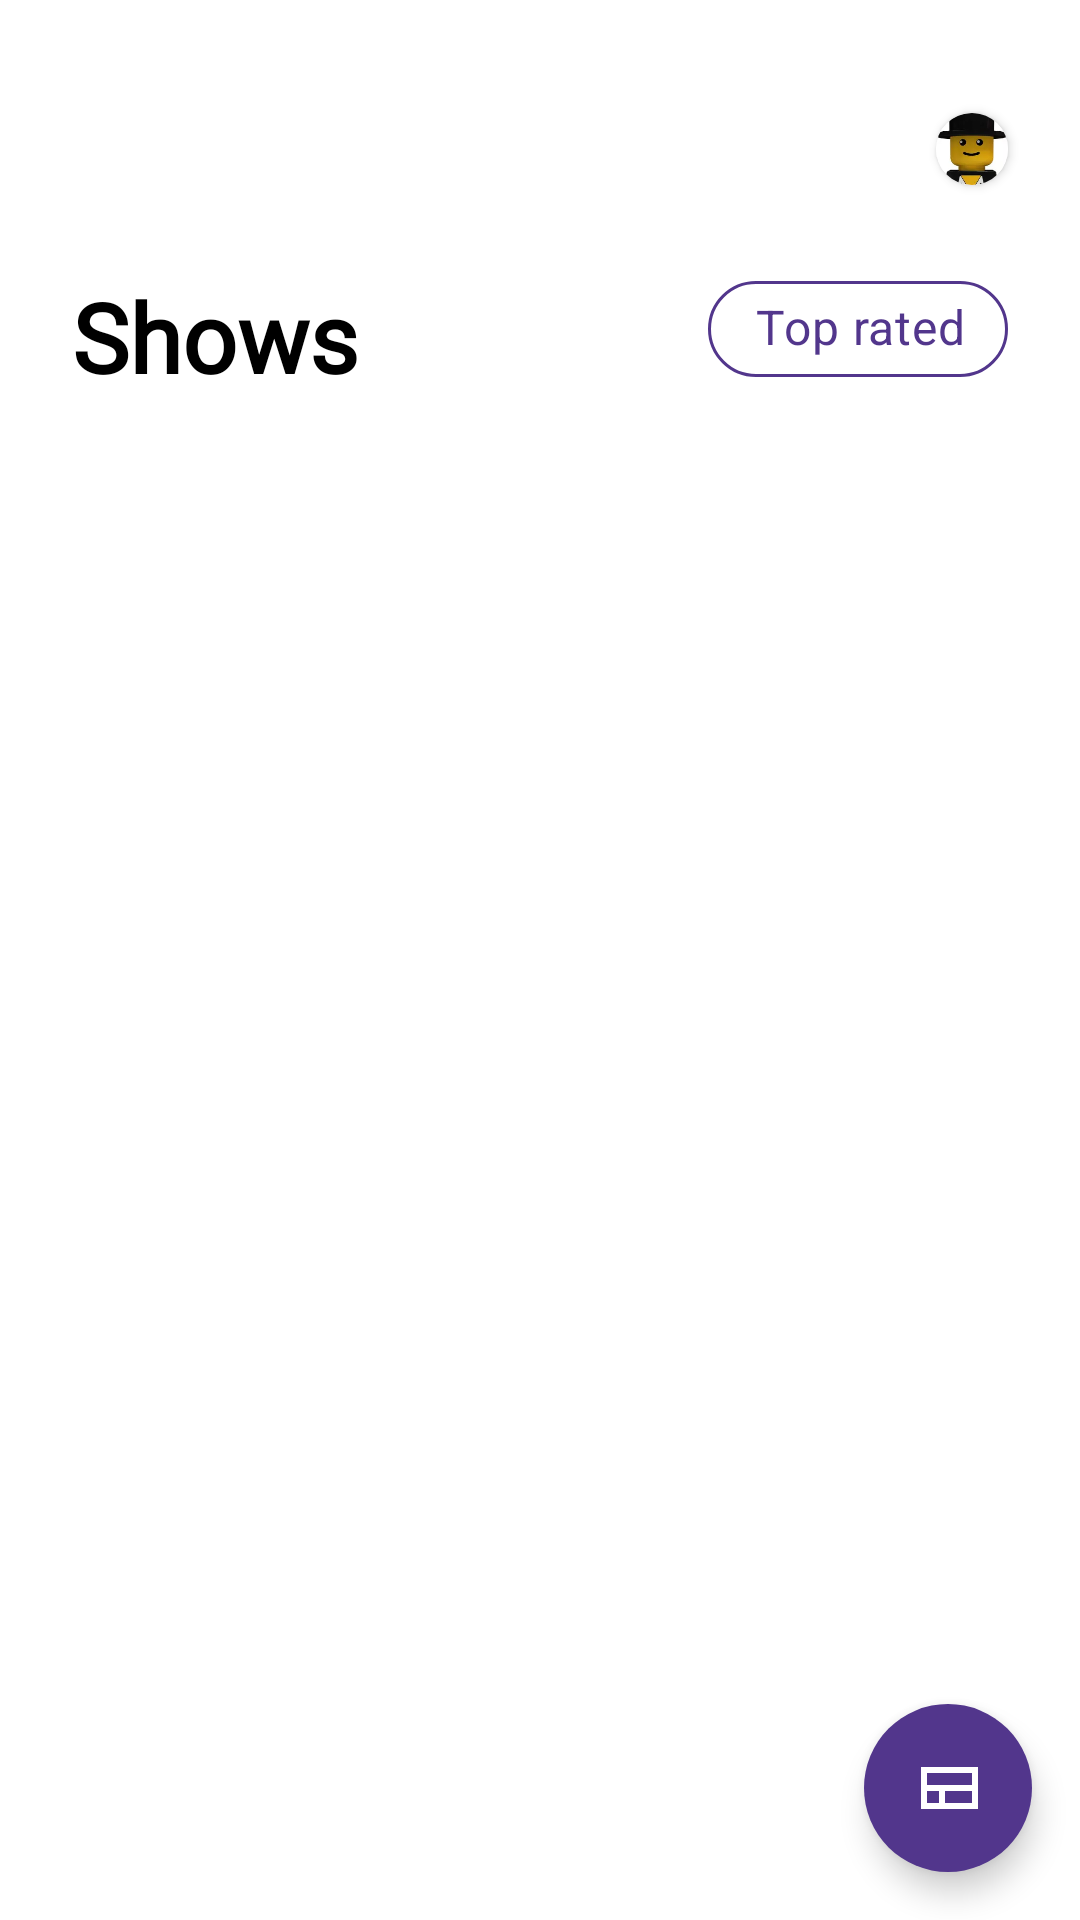

Icons on this 1080w x 1920h Android screen, each with the point to tap as (x,y):
grid: (948,1788)
